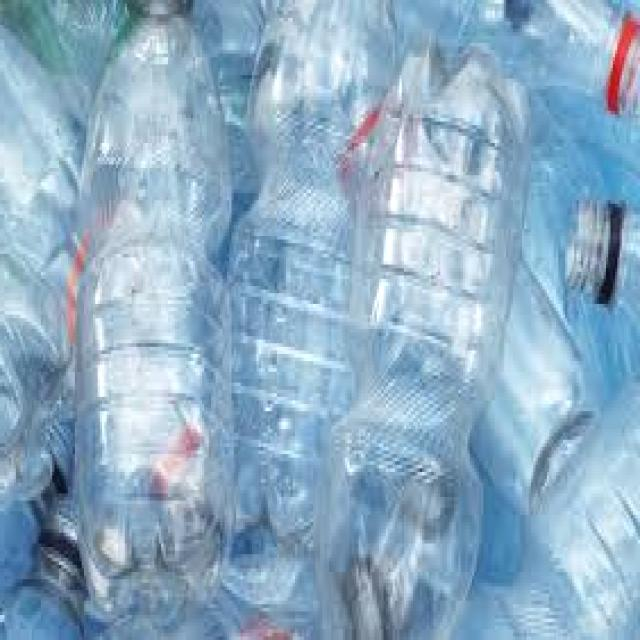plastic: (72, 11, 318, 593), (328, 8, 538, 604), (536, 0, 640, 622), (0, 5, 68, 640)
